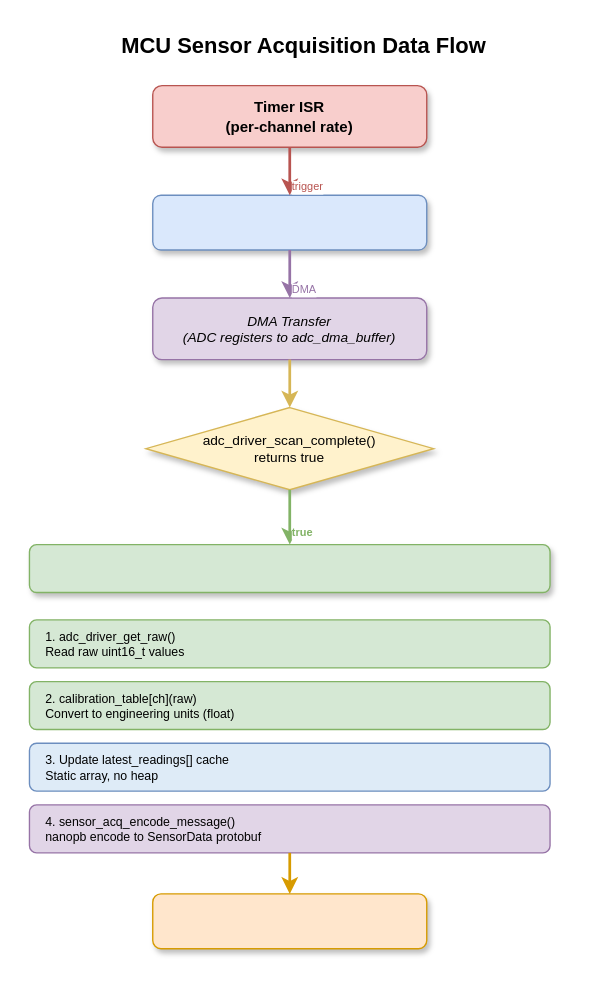
This 601x982 diagram has some shape labels left out. Each missing label, with the centre of its shape:
"adc_driver_start_scan()" goes at point (290, 224).
"sensor_acq_process()" goes at point (290, 570).
"tcp_stack_send(TCP:5001) to Linux Gateway" goes at point (290, 922).
